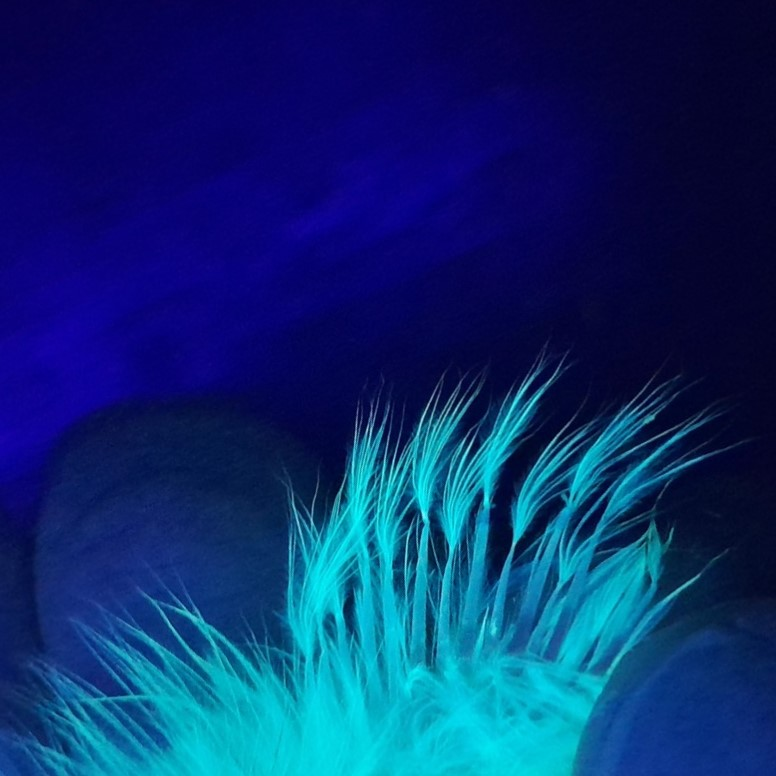male: (309, 482, 647, 738)
